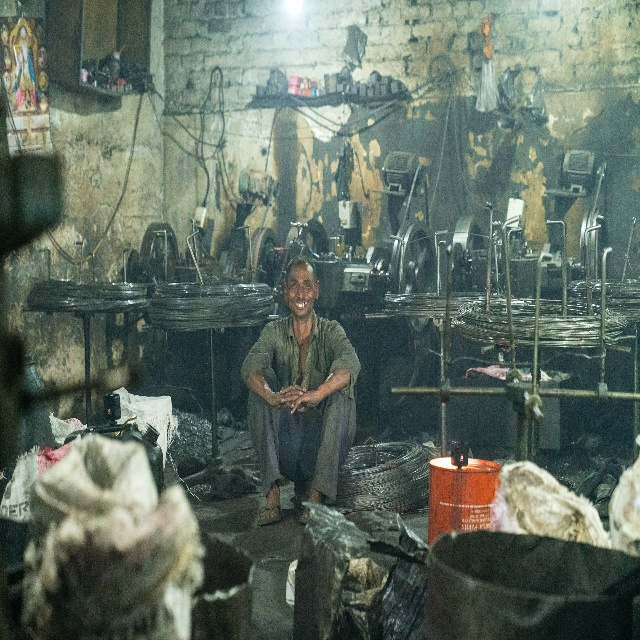Sin_guantes: (279, 382, 323, 409), (268, 384, 305, 409)
